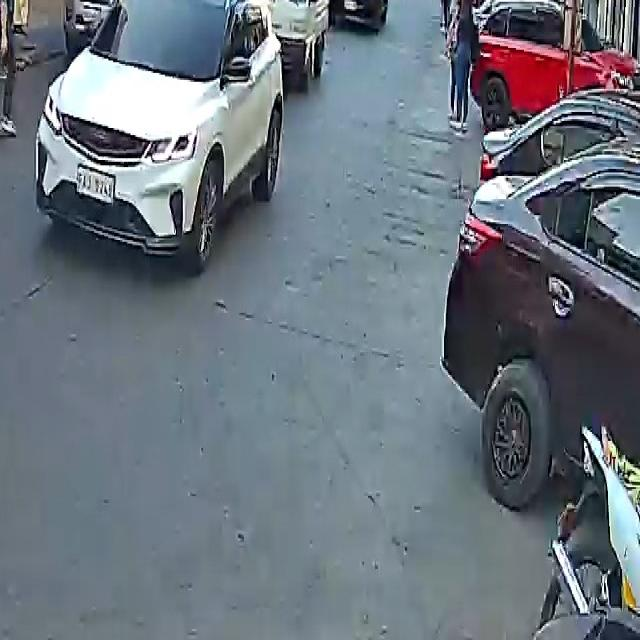car: (443, 57, 640, 542), (35, 0, 286, 267), (471, 0, 638, 132), (243, 0, 336, 89), (63, 0, 195, 52), (326, 0, 390, 32)
